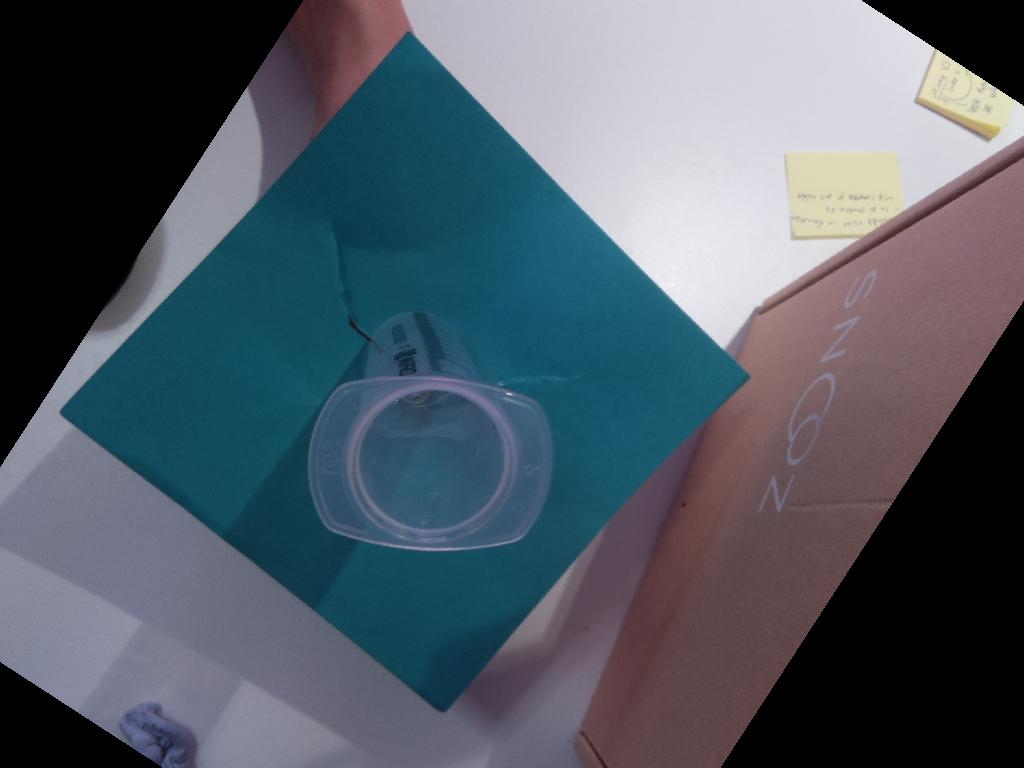clean: (307, 375, 555, 553)
